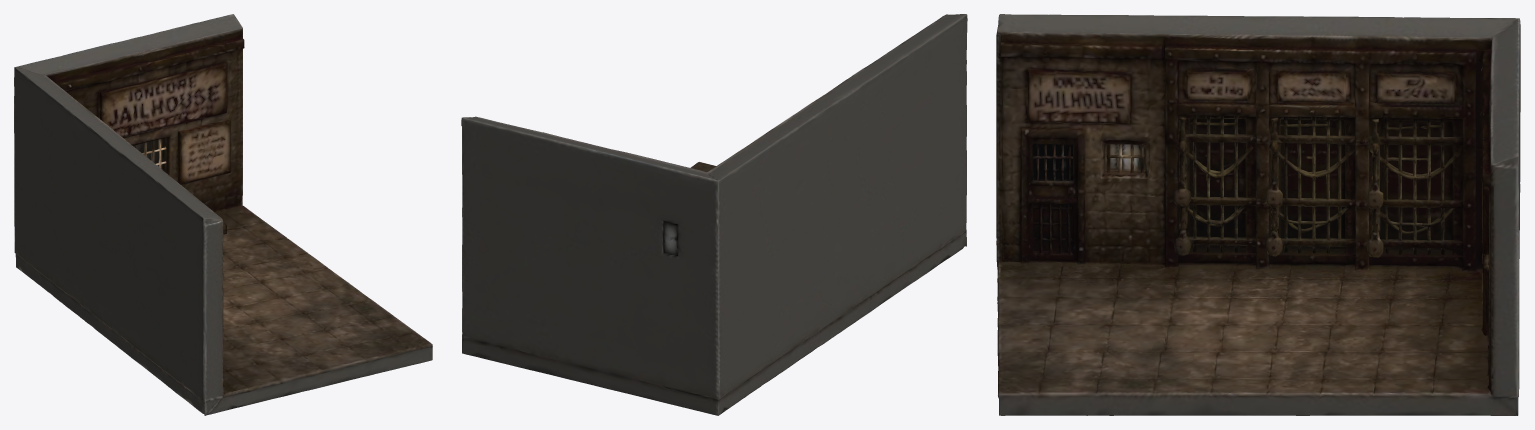
Rendered from JAILCELLS.glb.
3 views of the same model, side by side, from view 1: azimuth 30°, elevation 25°; view 2: azimuth 150°, elevation 25°; view 3: azimuth 270°, elevation 25° (orthographic). The views are drawn at different scales.
Parts seen in each view (by area): view 1: tripo_node_0b45dbfe-4f4c-433e-98be-653599a51a66; view 2: tripo_node_0b45dbfe-4f4c-433e-98be-653599a51a66; view 3: tripo_node_0b45dbfe-4f4c-433e-98be-653599a51a66.
Part boxes in pixels (bbox=[...]): tripo_node_0b45dbfe-4f4c-433e-98be-653599a51a66: bbox=[14, 14, 432, 415]; tripo_node_0b45dbfe-4f4c-433e-98be-653599a51a66: bbox=[461, 14, 967, 415]; tripo_node_0b45dbfe-4f4c-433e-98be-653599a51a66: bbox=[996, 14, 1520, 415].
Bounding box in the file's own units: 0.6588 × 0.5477 × 1.
1 material, 1 textured.
